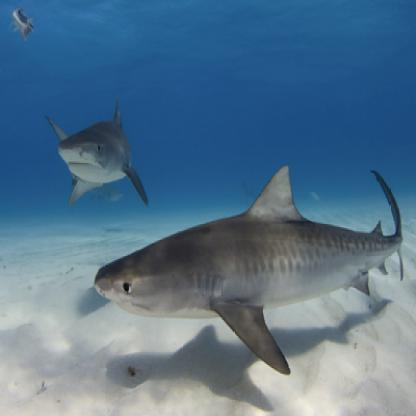shark: (95, 165, 402, 378), (45, 100, 149, 209)
